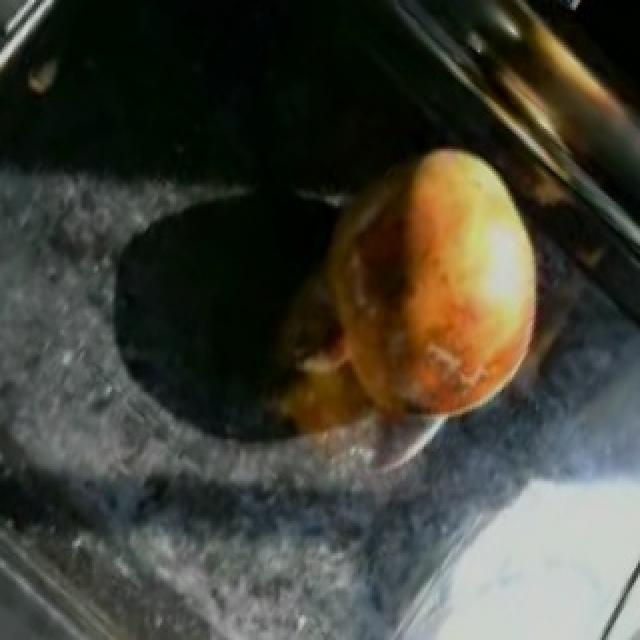fruit: (286, 149, 574, 456)
